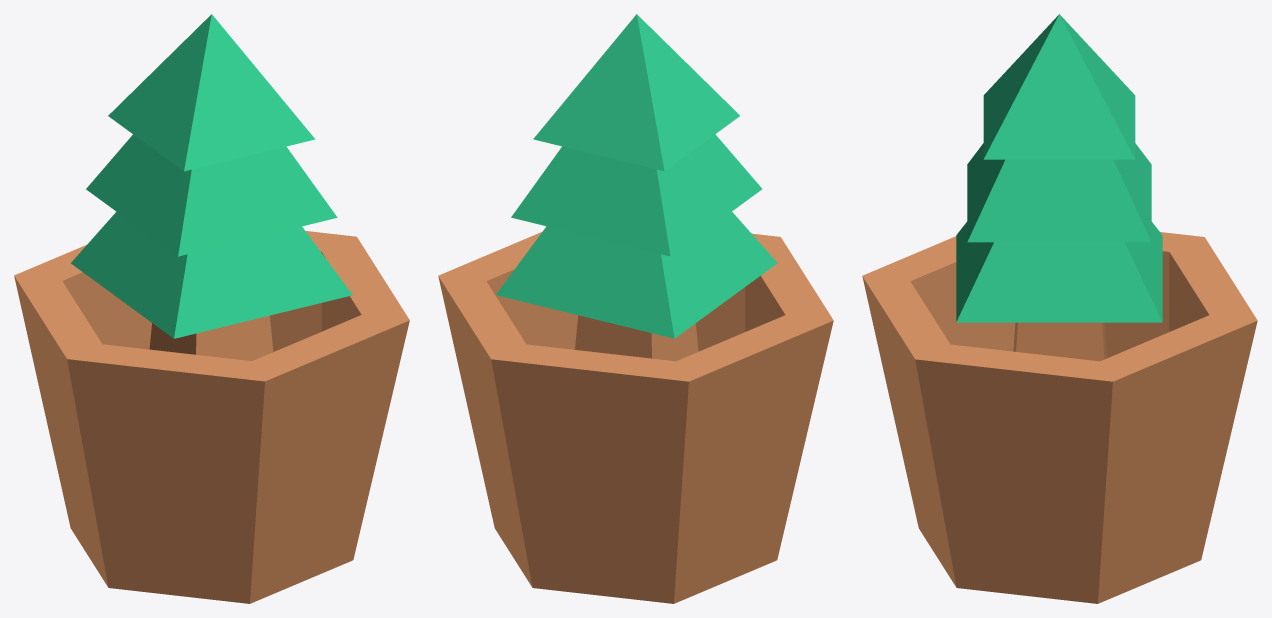
File: plantSmall.obj
3 views of the same model, side by side, from view 1: azimuth 30°, elevation 25°; view 2: azimuth 150°, elevation 25°; view 3: azimuth 270°, elevation 25° (orthographic).
Bounding box in the file's own units: 0.0947 × 0.14 × 0.0947.
